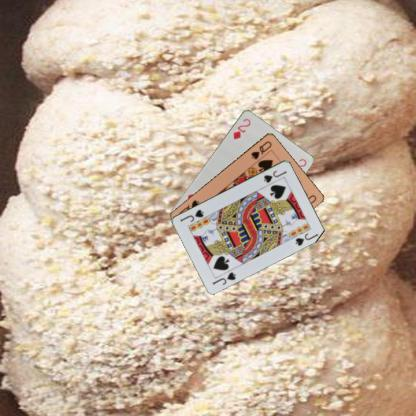2d: (229, 116, 252, 140)
Js: (210, 269, 237, 286), (261, 168, 288, 184)
Qs: (248, 138, 273, 161)
